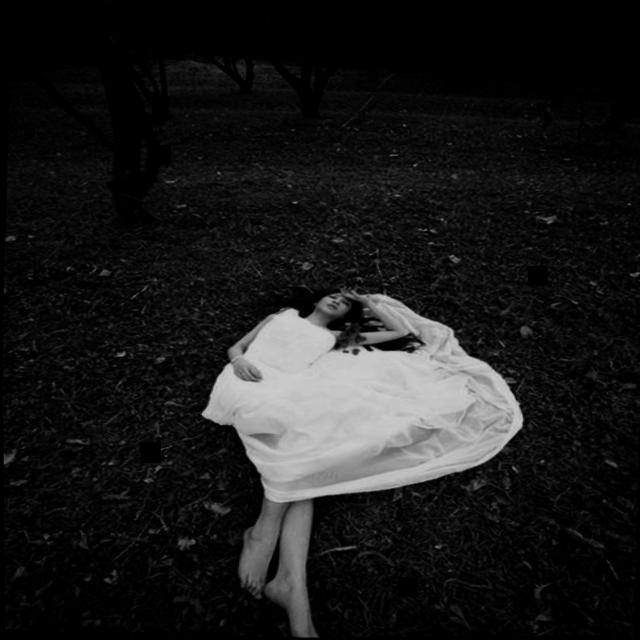Fall-Detected: (168, 265, 534, 639)
